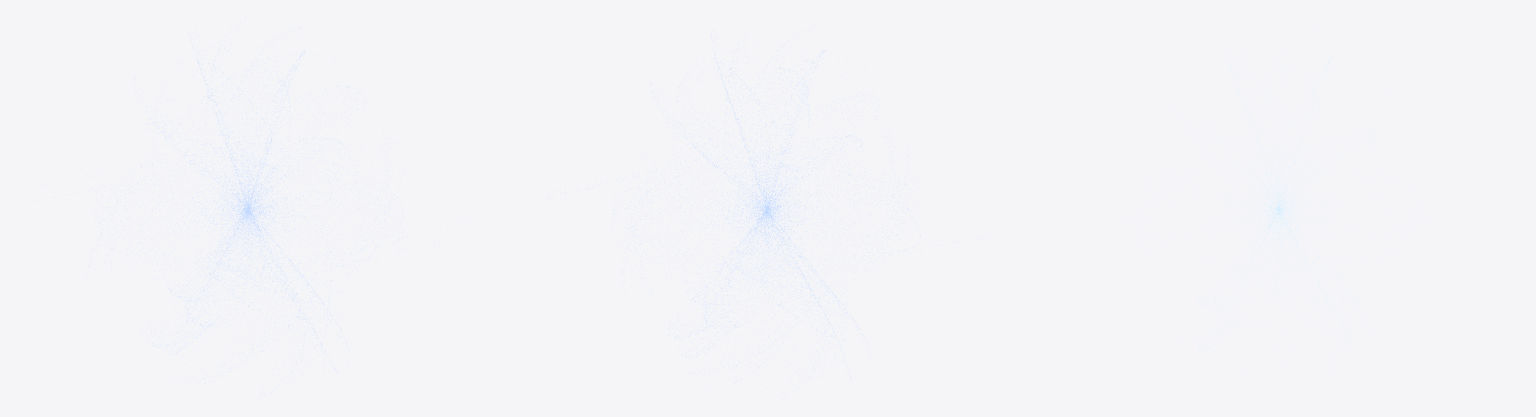
File: nebula2.glb
3 views of the same model, side by side, from view 1: azimuth 30°, elevation 25°; view 2: azimuth 150°, elevation 25°; view 3: azimuth 270°, elevation 25° (orthographic).
Visible parts, largest first — view 1: Object_7, Object_4, Object_9, Object_8, Object_5, Object_6; view 2: Object_6, Object_7, Object_5, Object_9, Object_4, Object_8; view 3: no part large enough to name.
Boxes of the visible parts, x1,y1,x2,y2 form: Object_7: [46, 14, 425, 402]; Object_4: [25, 28, 402, 383]; Object_9: [27, 14, 401, 394]; Object_8: [84, 26, 435, 390]; Object_5: [81, 27, 439, 398]; Object_6: [26, 24, 440, 393]; Object_6: [565, 15, 941, 389]; Object_7: [609, 35, 988, 391]; Object_5: [544, 37, 973, 401]; Object_9: [612, 14, 976, 402]; Object_4: [617, 27, 986, 380]; Object_8: [537, 29, 980, 390].
Bounding box in the file's own units: 81.16 × 63.71 × 86.44.
